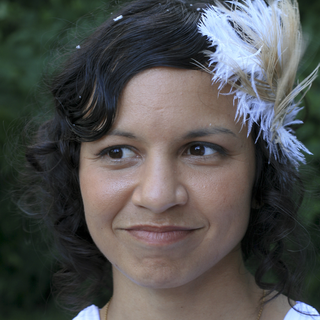eye: (177, 138, 229, 164), (96, 141, 144, 165)
